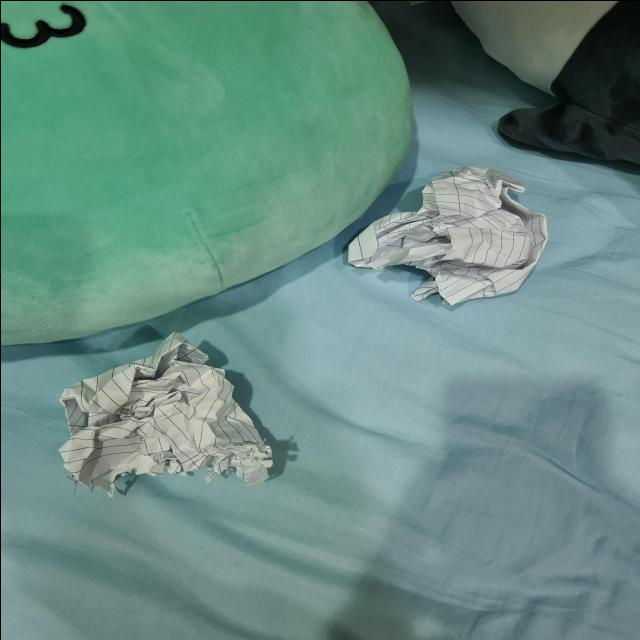kertas: (64, 338, 284, 492), (348, 168, 554, 306)
